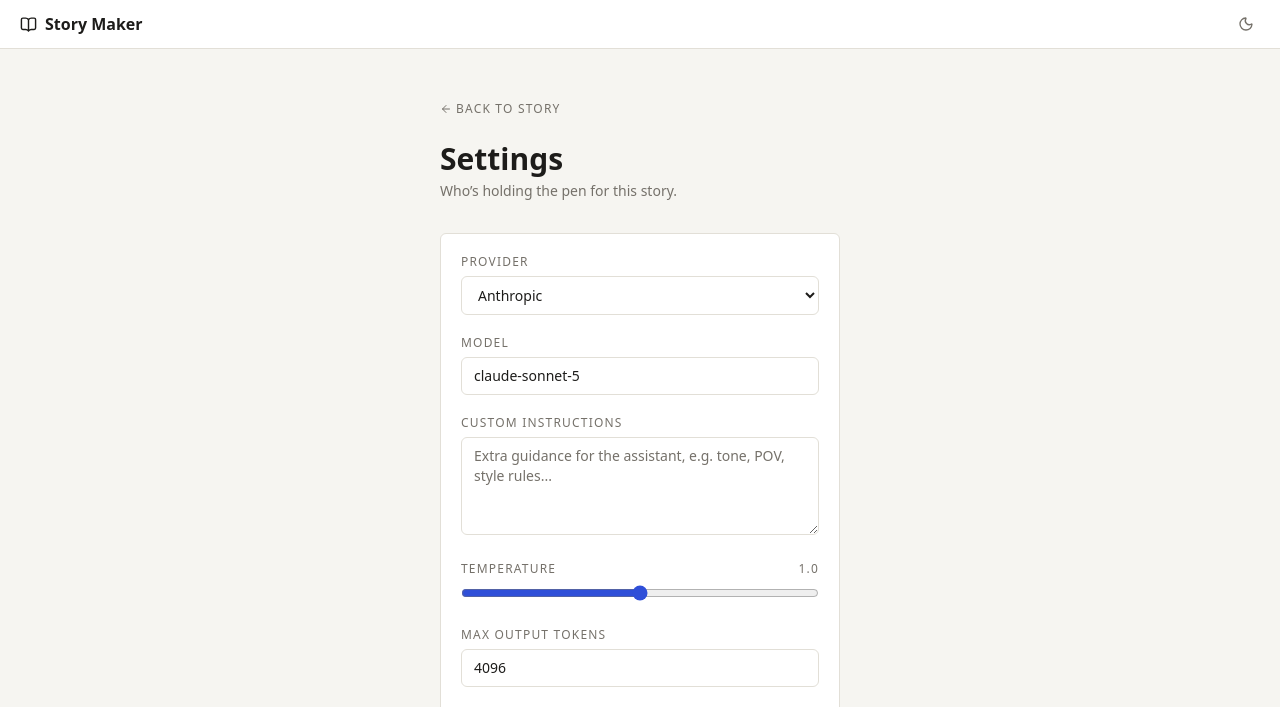
Test case: Settings page › loads current settings and saves changes
This screenshot has width=1280, height=707.
Check: the field showing "claude-sonnet-5" is shown, box [461,357,819,395]
Type "Write in first person." into the text box with placeholder "Extra guidance" at [640, 486], box [461,437,819,535]
(page scrolled)
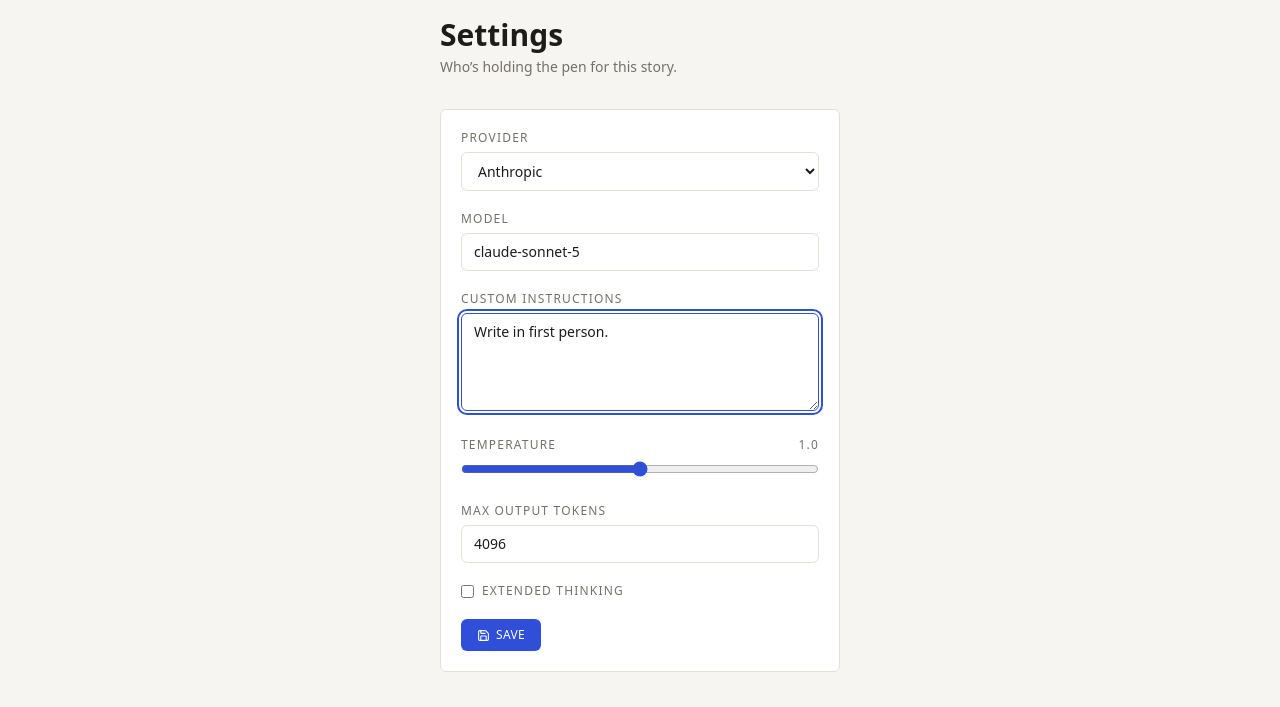
Click the checkbox labelled "Extended thinking" at [468, 591], box [461,584,474,598]
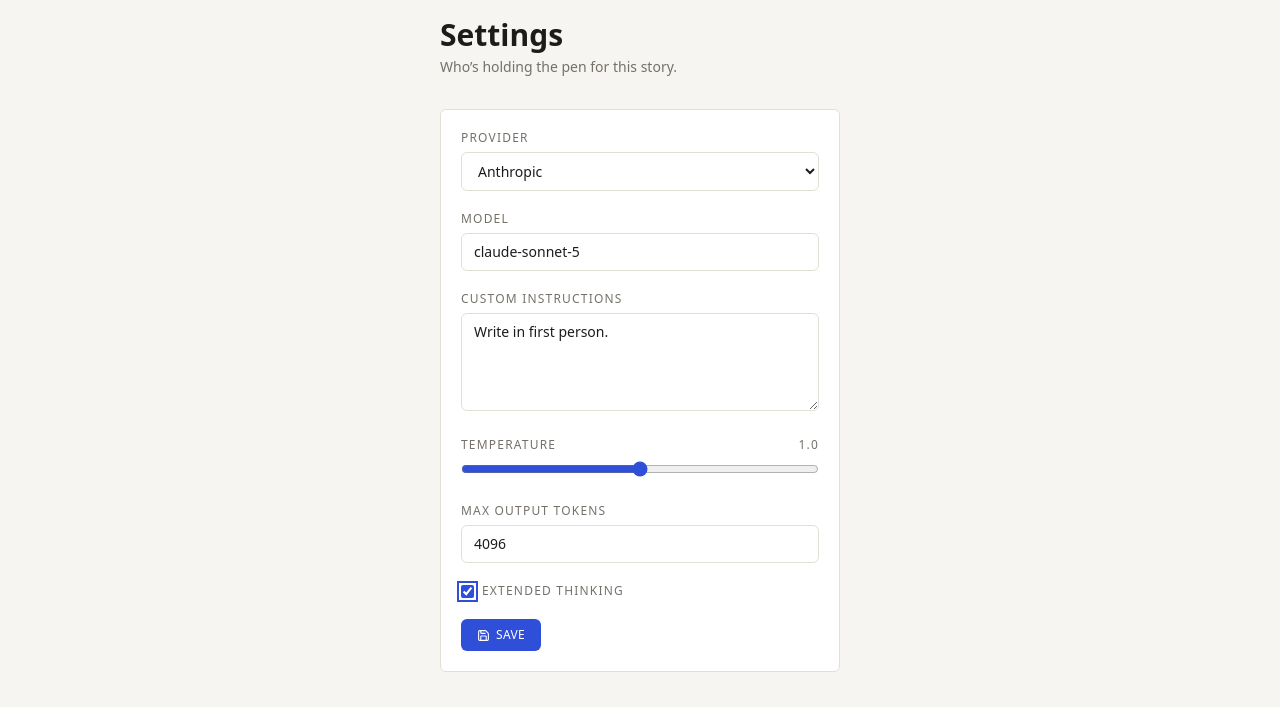
Click the button "Save" at [501, 635], box [461,619,541,651]
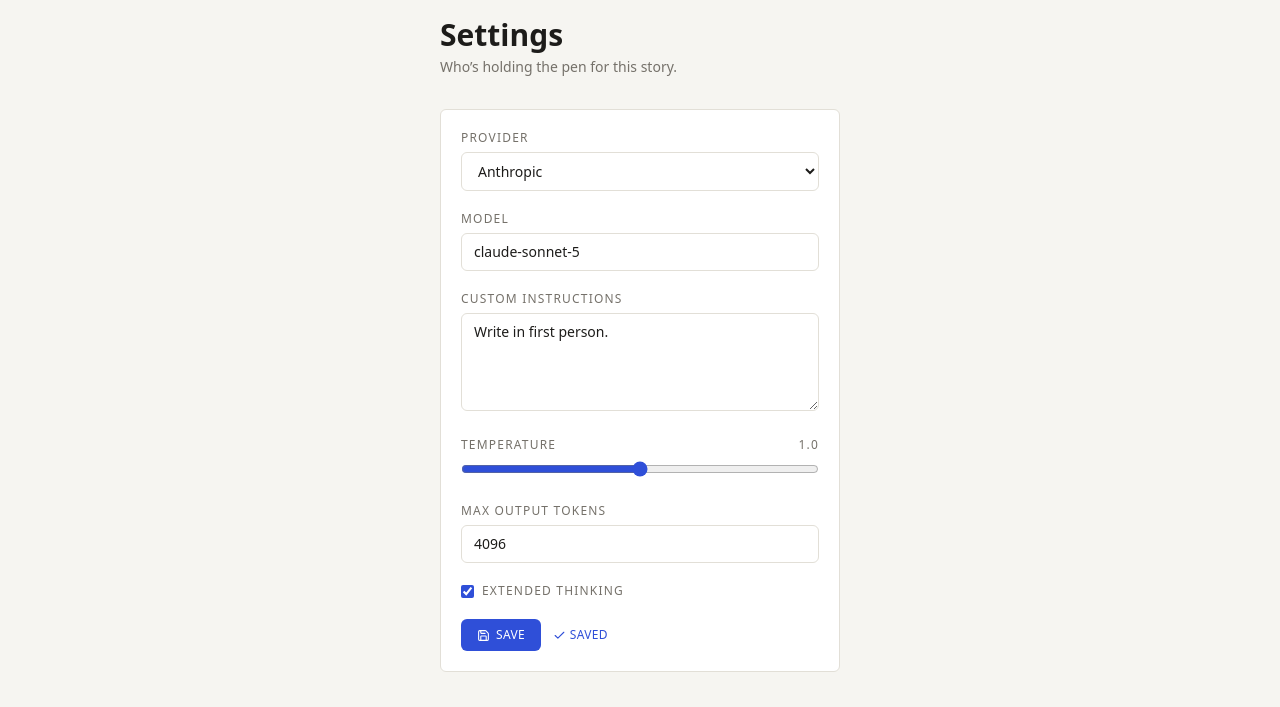
Check: the text "Saved" is shown, box [553,627,608,643]
